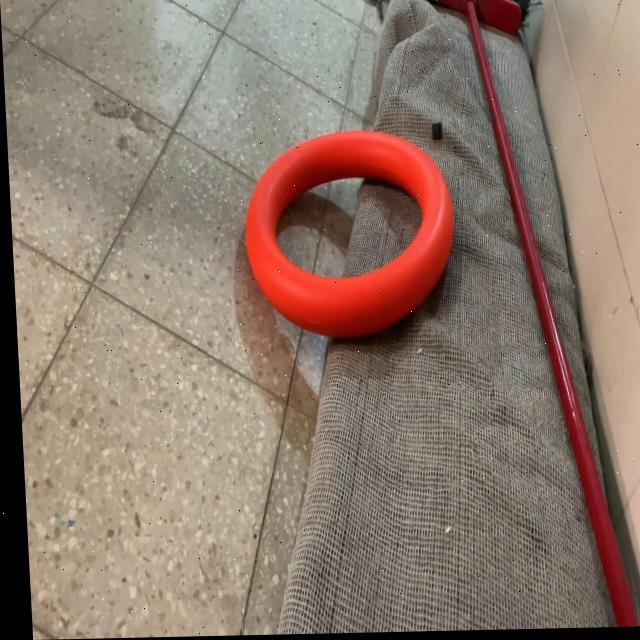note: (236, 127, 458, 345)
